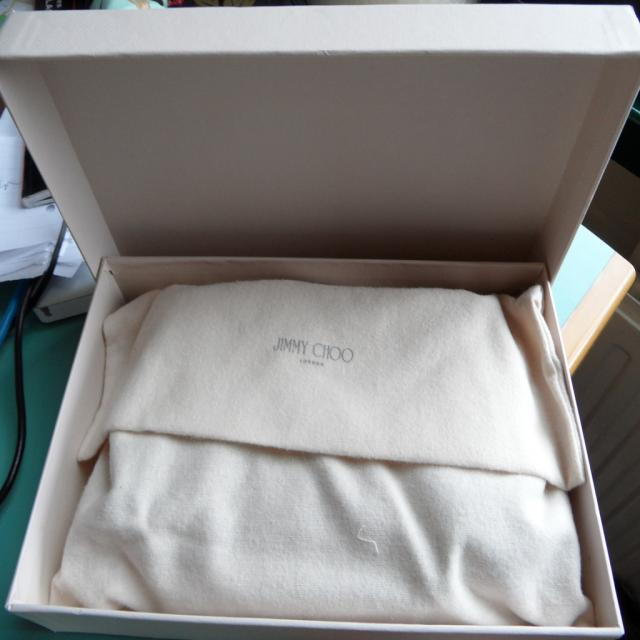Box: (3, 2, 640, 637)
